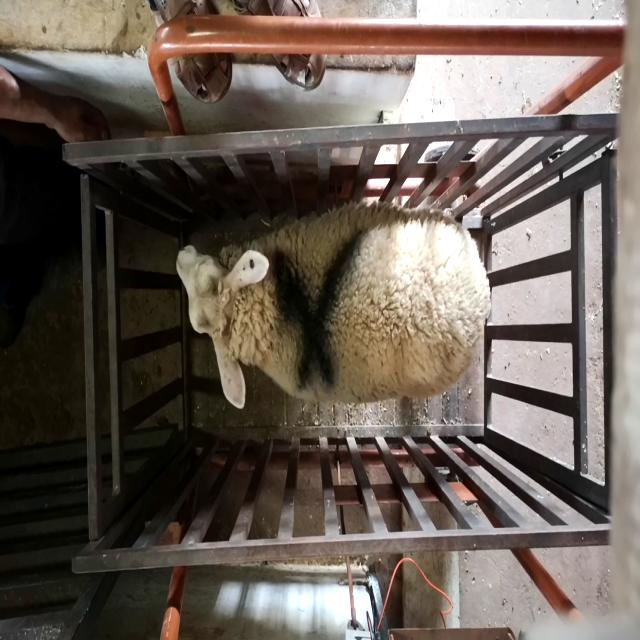sheep: (175, 202, 493, 411)
